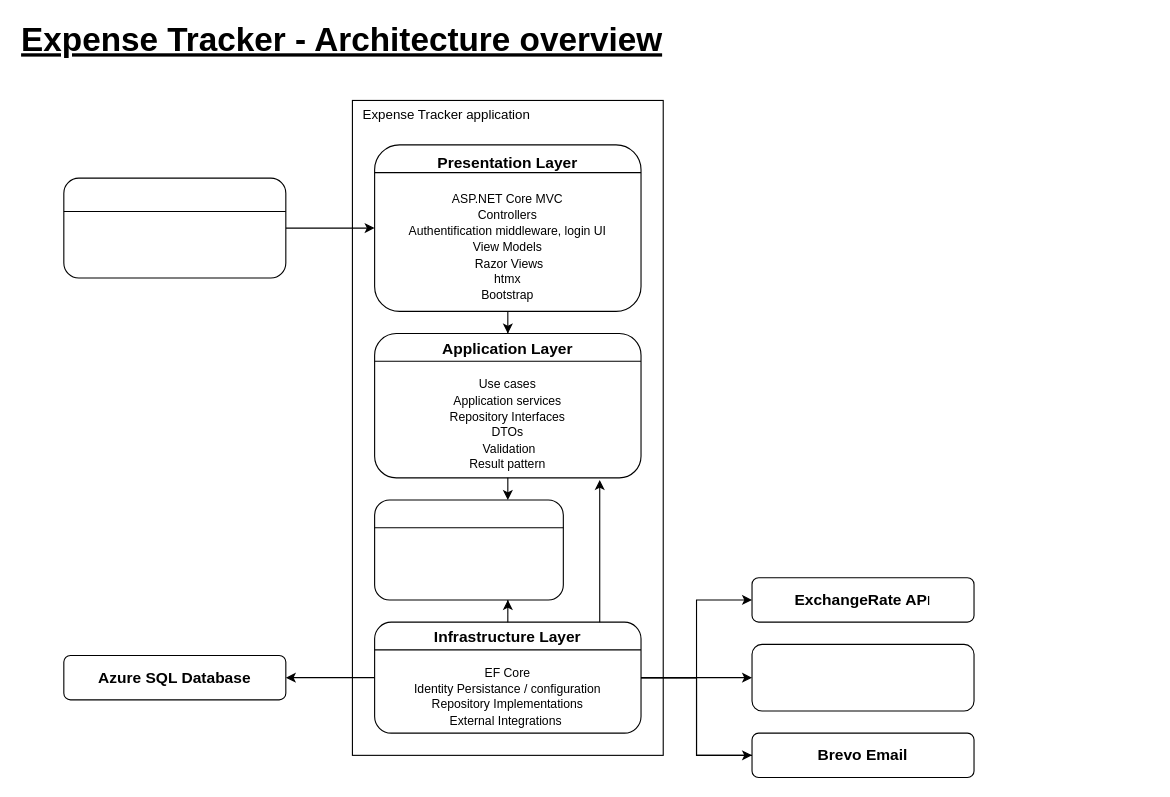
Image size: 1170x797. Some labels were removed from this diagram. Each missing label, with the centre of its shape:
Client (Browser / PWA) Service worker IndexedDb Offline synchronisation: point (174, 227)
Domain Layer Entities Business Rules Domain Services: point (468, 549)
OpenAI API receipt parsing category suggestions: point (862, 677)
